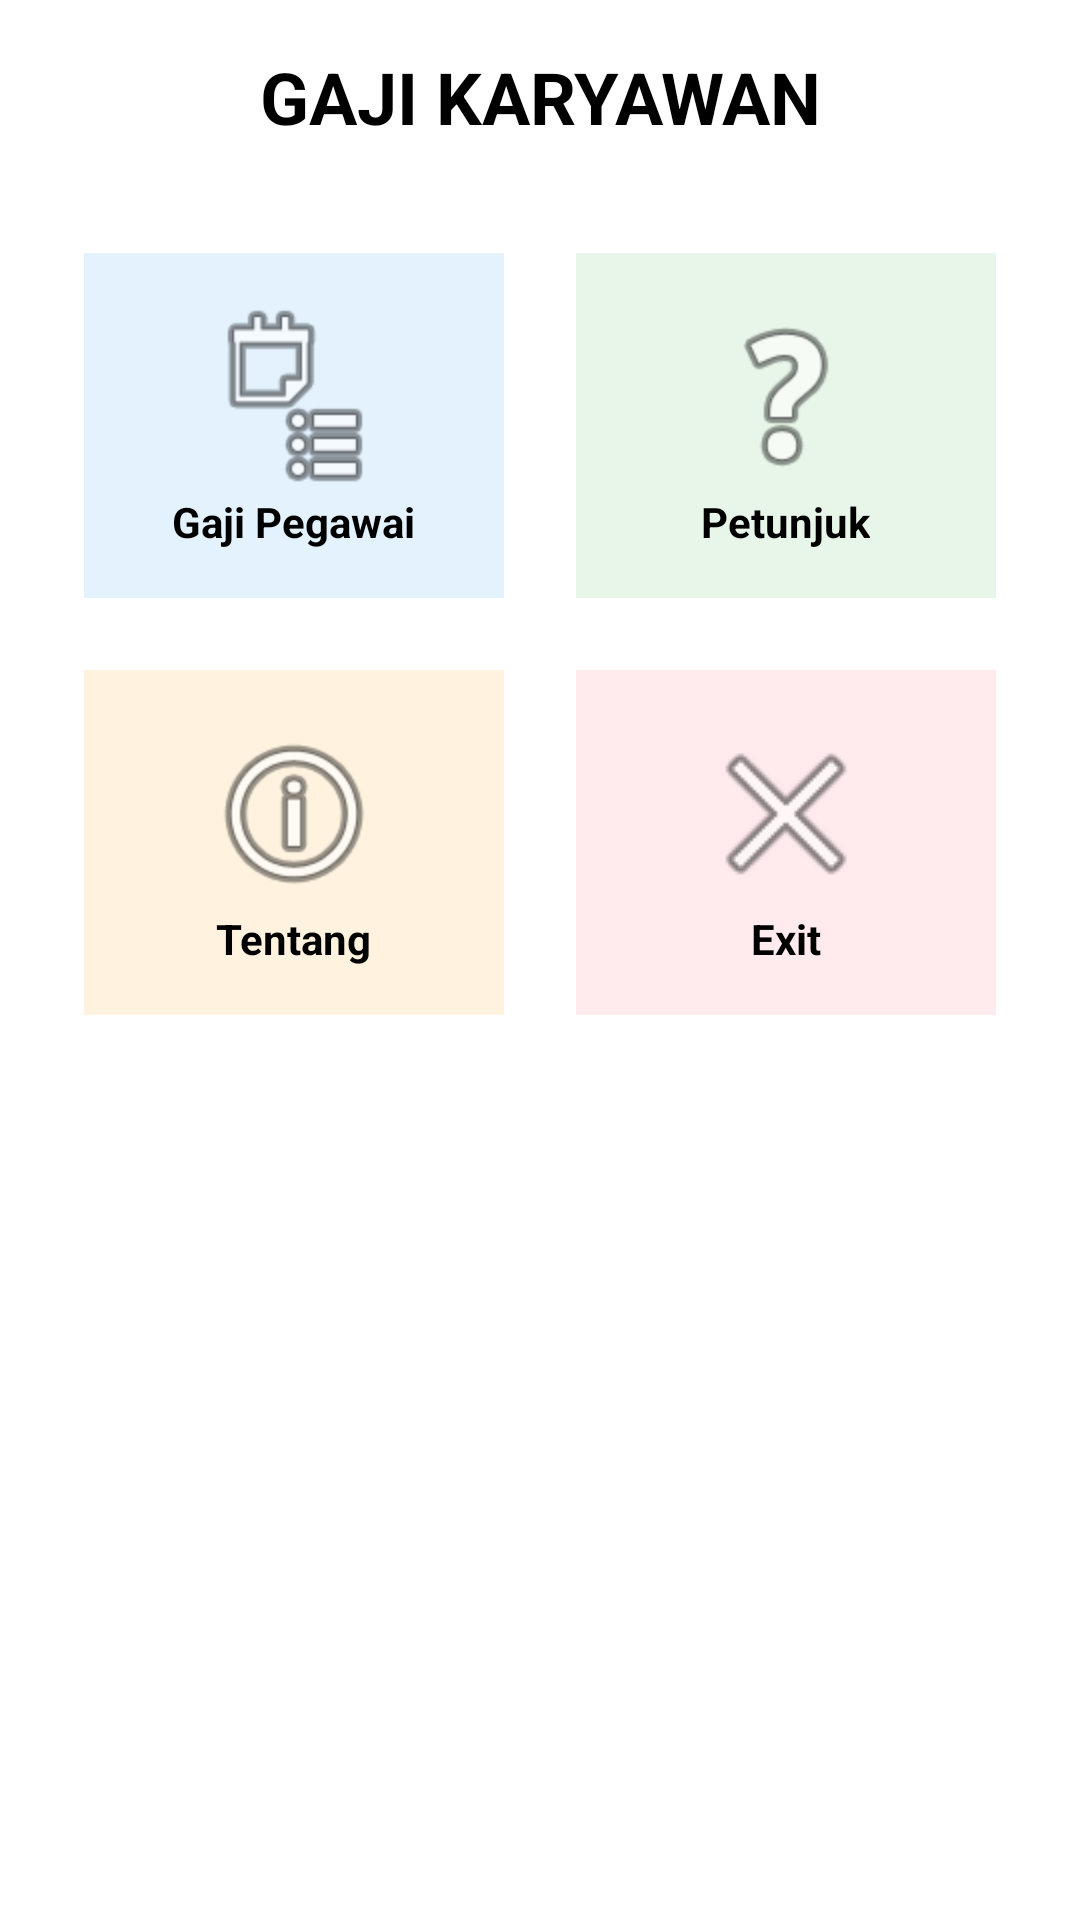

Icons on this 1080*1920 Android screen, each with its box as BBox(x1, y1, x2, y2):
agenda: BBox(227, 310, 363, 481)
close clear cancel: BBox(726, 754, 846, 874)
help: BBox(744, 328, 828, 466)
info details: BBox(224, 745, 364, 883)
